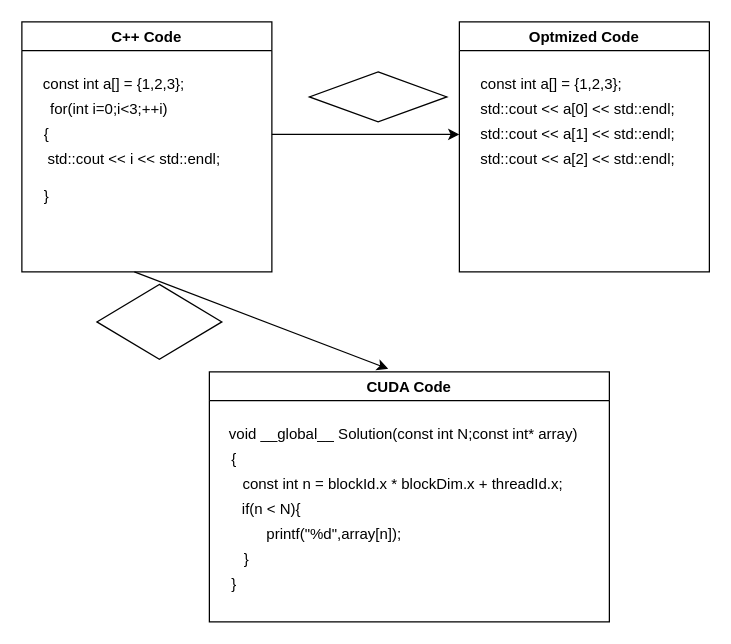
Image size: 731x644. Some labels were removed from this diagram. Here are the shapes that lost their labels. From the top down, the centre of each, then its label:
At (x=377, y=96): "Compile O3".
At (x=159, y=321): "nvcc compile".
